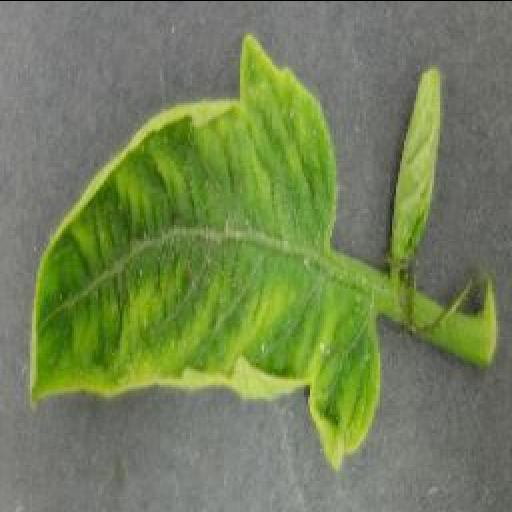disease_tomato: (26, 33, 378, 471), (388, 62, 444, 260)
